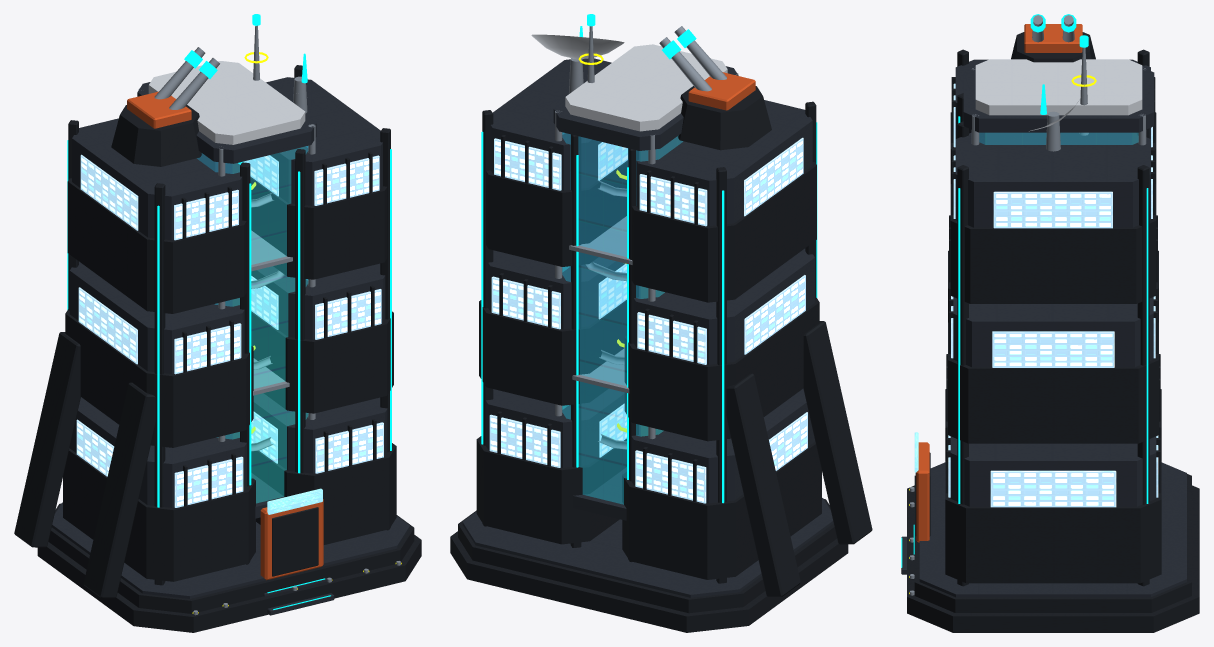
Rendered from bldg_20_r1_03.glb.
3 views of the same model, side by side, from view 1: azimuth 30°, elevation 25°; view 2: azimuth 150°, elevation 25°; view 3: azimuth 270°, elevation 25° (orthographic). The views are drawn at different scales.
Visible parts, largest first — view 1: Bldg20_C03_gunmetal, Bldg20_C03_carbon_slate, Bldg20_C03_window_lit, Bldg20_C03_glass_cyan, Bldg20_C03_aero_white, Bldg20_C03_steel_machined, Bldg20_C03_led_cyan, Bldg20_C03_accent_orange, Bldg20_C03_marquee; view 2: Bldg20_C03_gunmetal, Bldg20_C03_carbon_slate, Bldg20_C03_window_lit, Bldg20_C03_glass_cyan, Bldg20_C03_aero_white, Bldg20_C03_steel_machined, Bldg20_C03_led_cyan, Bldg20_C03_accent_orange; view 3: Bldg20_C03_gunmetal, Bldg20_C03_carbon_slate, Bldg20_C03_window_lit, Bldg20_C03_aero_white, Bldg20_C03_accent_orange, Bldg20_C03_led_cyan, Bldg20_C03_steel_machined, Bldg20_C03_glass_cyan.
Part boxes in pixels (left/top/right/bottom): Bldg20_C03_gunmetal: left=14, top=65, right=421, bottom=632; Bldg20_C03_carbon_slate: left=51, top=77, right=409, bottom=615; Bldg20_C03_window_lit: left=76, top=154, right=383, bottom=507; Bldg20_C03_glass_cyan: left=197, top=146, right=308, bottom=503; Bldg20_C03_aero_white: left=148, top=61, right=305, bottom=144; Bldg20_C03_steel_machined: left=138, top=25, right=400, bottom=615; Bldg20_C03_led_cyan: left=67, top=14, right=391, bottom=609; Bldg20_C03_accent_orange: left=127, top=91, right=323, bottom=580; Bldg20_C03_marquee: left=267, top=488, right=322, bottom=514; Bldg20_C03_gunmetal: left=450, top=86, right=872, bottom=632; Bldg20_C03_carbon_slate: left=462, top=58, right=833, bottom=597; Bldg20_C03_window_lit: left=489, top=137, right=807, bottom=503; Bldg20_C03_glass_cyan: left=562, top=132, right=682, bottom=504; Bldg20_C03_aero_white: left=531, top=34, right=727, bottom=131; Bldg20_C03_steel_machined: left=555, top=26, right=738, bottom=449; Bldg20_C03_led_cyan: left=481, top=14, right=817, bottom=503; Bldg20_C03_accent_orange: left=688, top=72, right=755, bottom=110; Bldg20_C03_gunmetal: left=907, top=32, right=1199, bottom=632; Bldg20_C03_carbon_slate: left=901, top=59, right=1186, bottom=597; Bldg20_C03_window_lit: left=948, top=83, right=1158, bottom=507; Bldg20_C03_aero_white: left=975, top=59, right=1142, bottom=131; Bldg20_C03_accent_orange: left=916, top=24, right=1082, bottom=542; Bldg20_C03_led_cyan: left=901, top=14, right=1148, bottom=567; Bldg20_C03_steel_machined: left=909, top=15, right=1146, bottom=595; Bldg20_C03_glass_cyan: left=979, top=133, right=1138, bottom=144.
Bounding box in the file's own units: 13.73 × 21.52 × 10.71.
10 materials, 10 textured.
